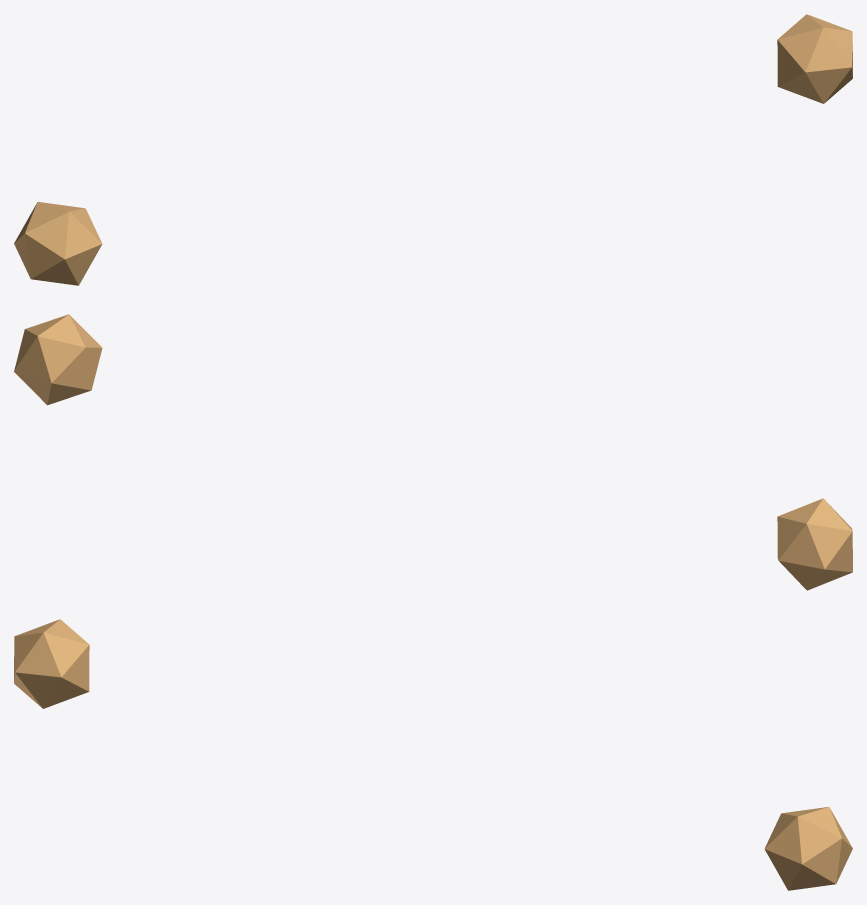
The model's file is earings6.glb.
3 views of the same model, one above another, from view 1: azimuth 30°, elevation 25°; view 2: azimuth 150°, elevation 25°; view 3: azimuth 330°, elevation 25° (orthographic).
Parts seen in each view (by area): view 1: earrings.006; view 2: earrings.006; view 3: earrings.006.
Boxes of the visible parts, x1,y1,x2,y2 form: earrings.006: (14,14,852,285); earrings.006: (14,314,852,590); earrings.006: (14,619,852,890).
Size of the model in its own units: 1.46 by 0.1311 by 0.1327.
1 material, 1 textured.
